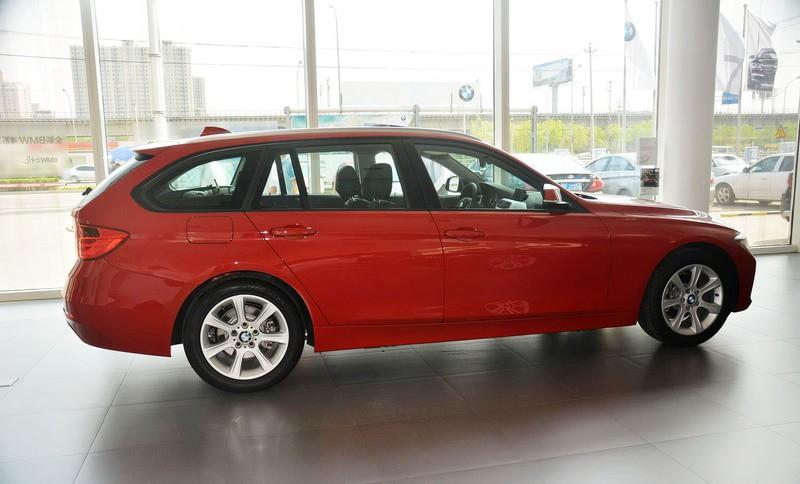Wagon: (61, 125, 757, 395)
